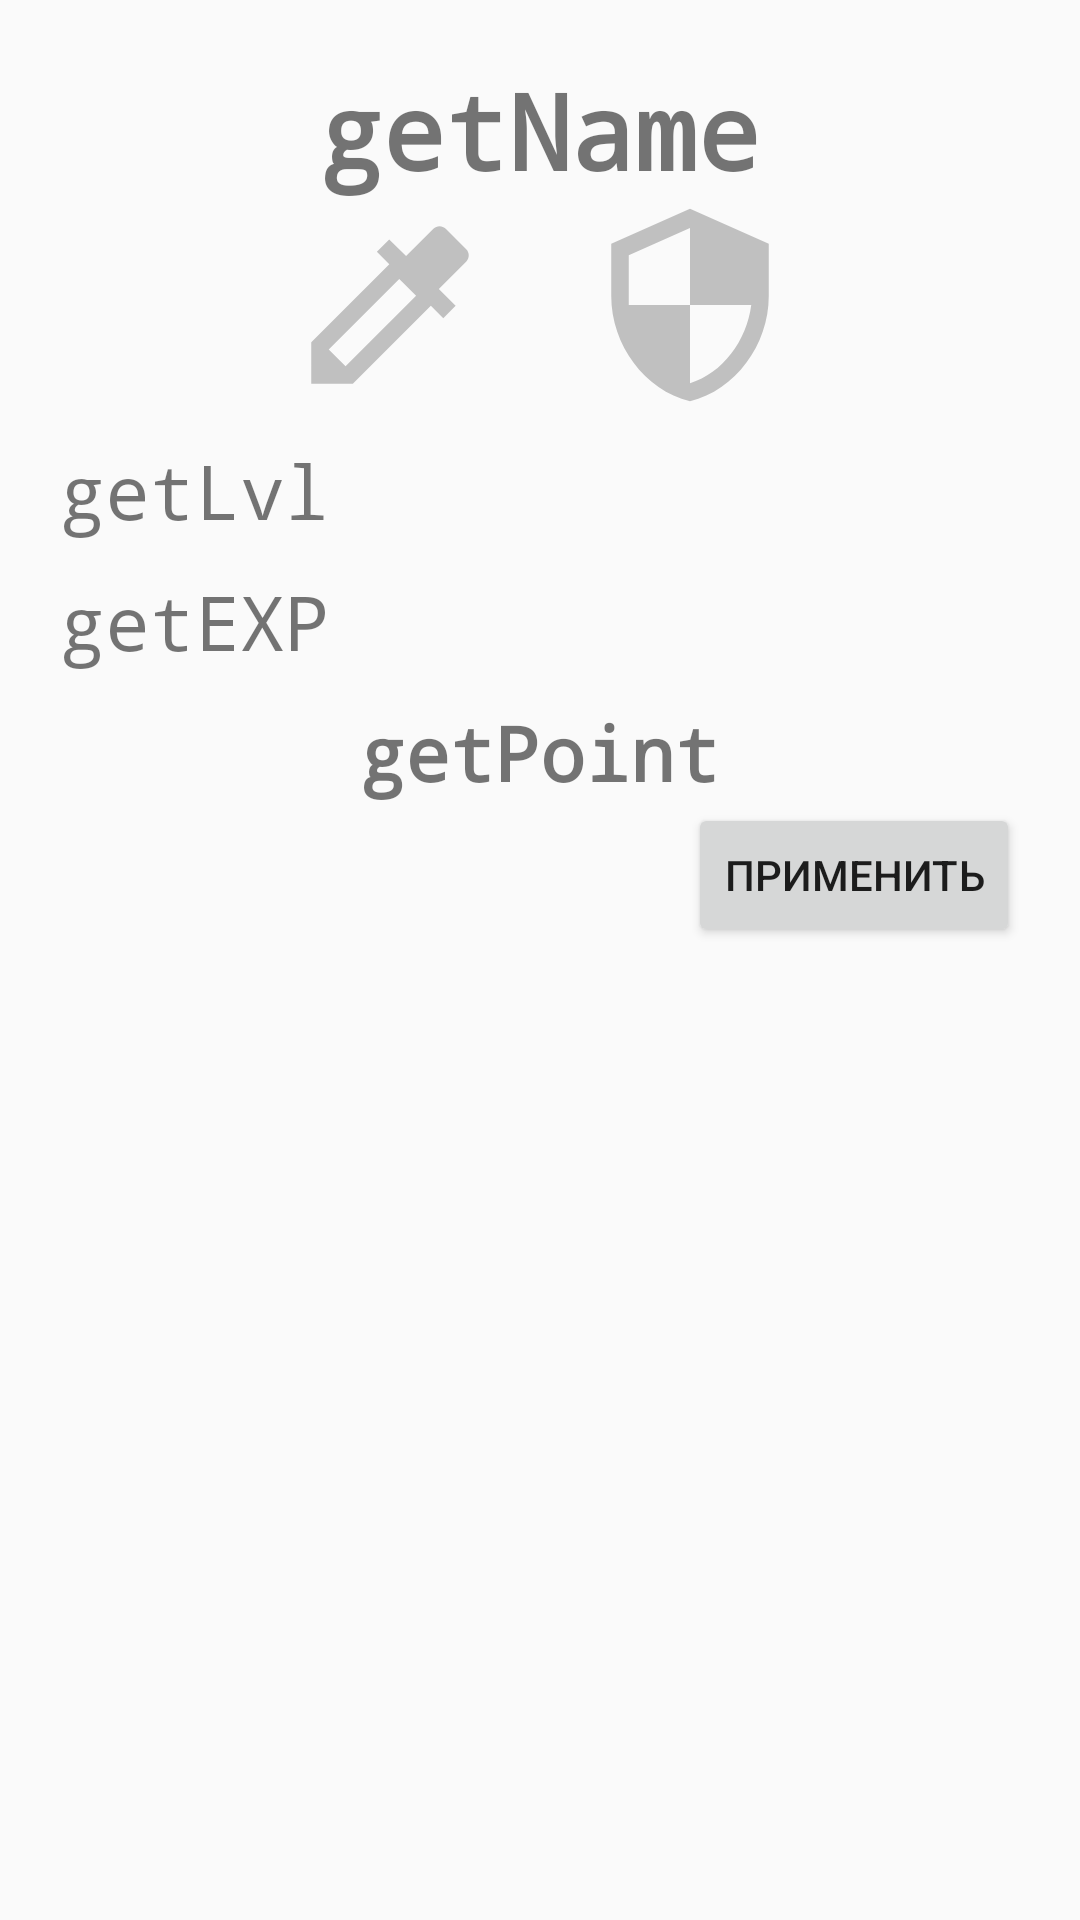

Where to tap for icons on this 1080 × 1920 app screen, as point (x, y):
colorize: point (390, 305)
security: point (690, 305)
